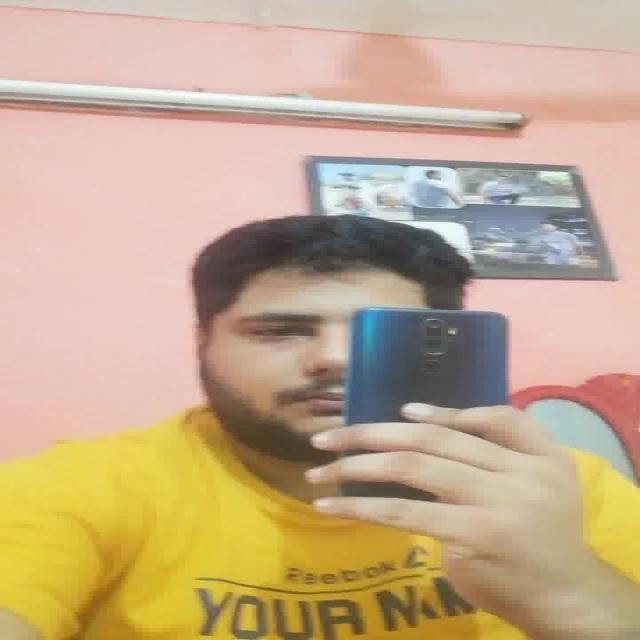Phone: (342, 307, 514, 421)
